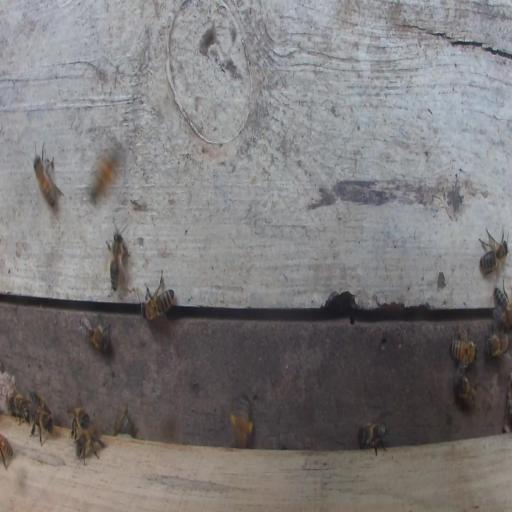nonpollenbee: (32, 141, 63, 209), (89, 149, 123, 203), (141, 269, 175, 322), (479, 227, 509, 275), (106, 230, 129, 292), (78, 314, 111, 353), (74, 426, 103, 465), (357, 421, 388, 455), (493, 285, 510, 329), (455, 374, 476, 408), (449, 340, 479, 363), (10, 393, 32, 423), (485, 332, 510, 357), (71, 405, 90, 436), (115, 406, 133, 436), (0, 432, 14, 470), (31, 411, 53, 435), (32, 392, 51, 417)
pollenbee: (230, 394, 253, 448)
